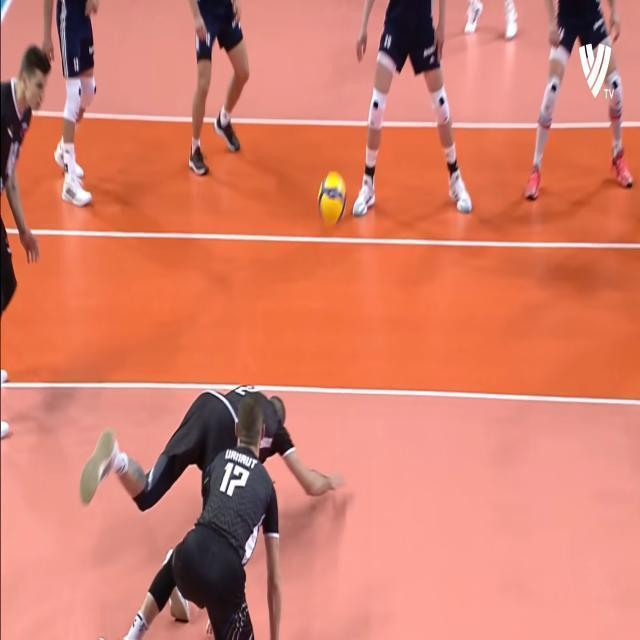volleyball: (318, 171, 348, 225)
